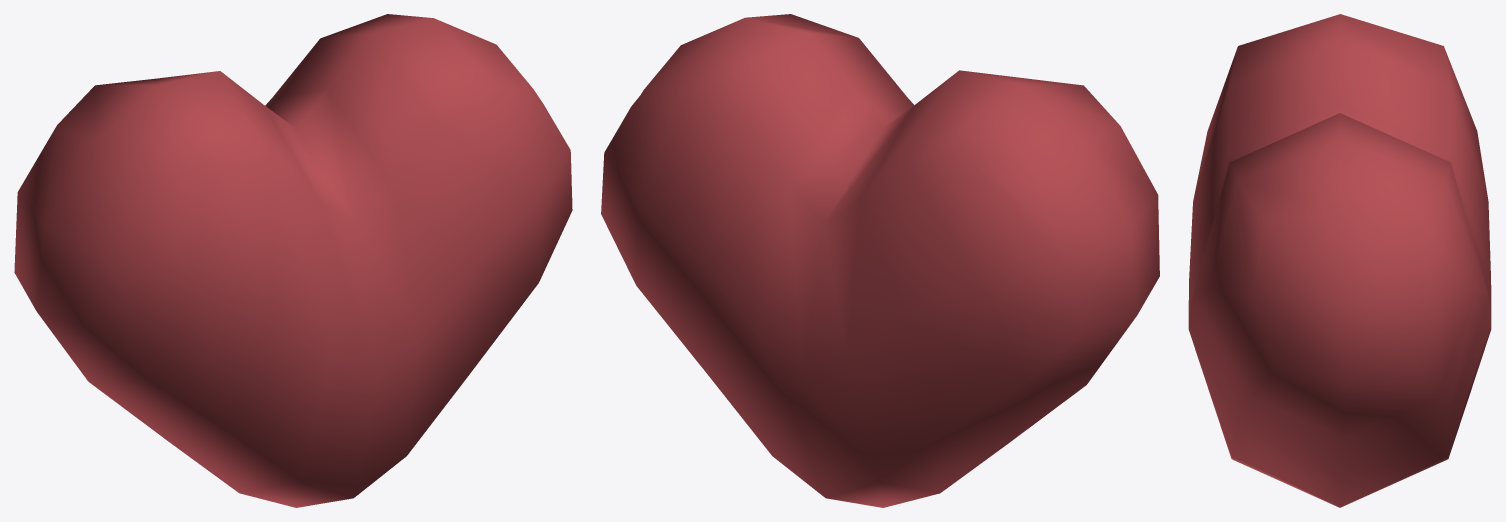
File: Coracao.fbx
The picture shows the model from 3 angles, left to right: view 1: azimuth 30°, elevation 25°; view 2: azimuth 150°, elevation 25°; view 3: azimuth 270°, elevation 25°; orthographic projection. The views are drawn at different scales.
Parts seen in each view (by area): view 1: Cube; view 2: Cube; view 3: Cube.
Boxes of the visible parts, box(x1,y1,x2,y2) form: Cube: box(14, 14, 572, 507); Cube: box(601, 14, 1159, 507); Cube: box(1188, 14, 1491, 507).
Bounding box in the file's own units: 126 × 107 × 68.11.
